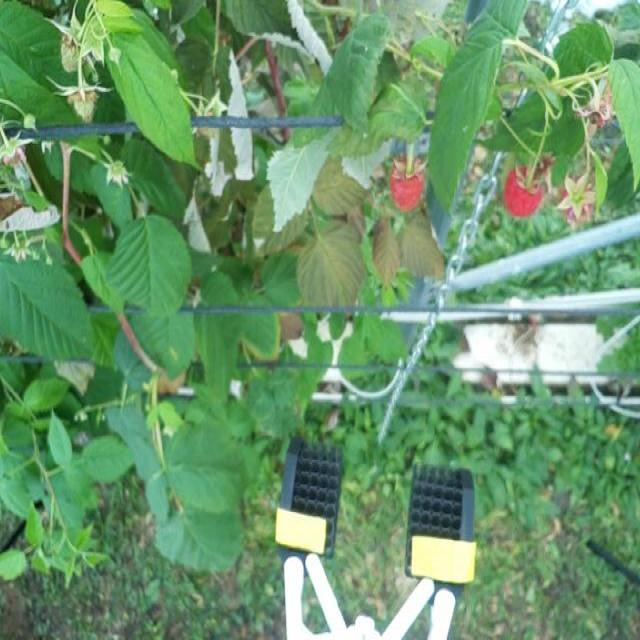Riped berries: (501, 160, 546, 220), (386, 152, 426, 213), (558, 170, 594, 222)
